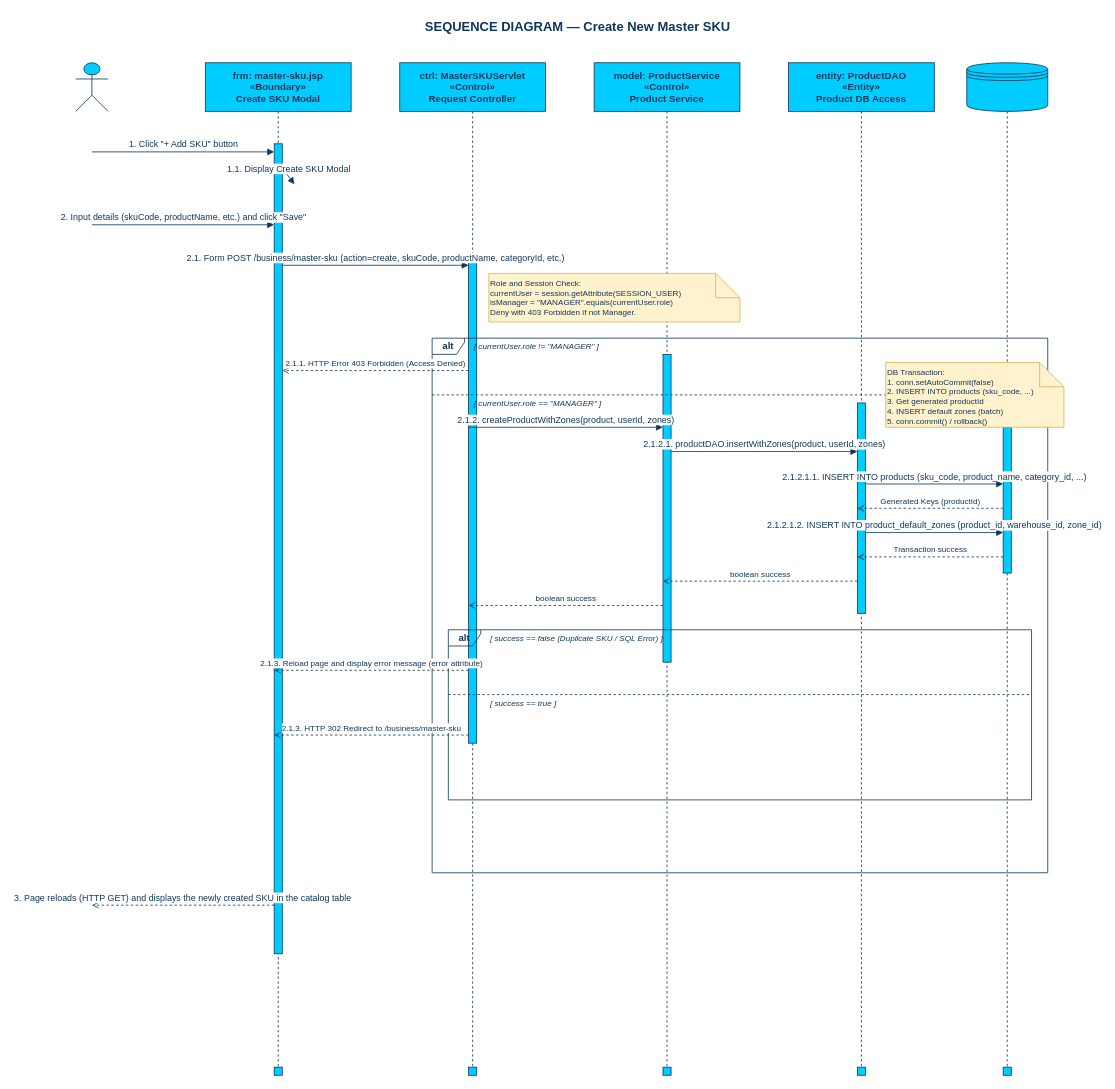
This 1115x1089 diagram has some shape labels left out. The box of each missing label's shape, as (x1, y1, x2, y2) in pixels:
Business Manager (User): (75, 62, 108, 111)
DB: MySQL: (966, 62, 1048, 111)
